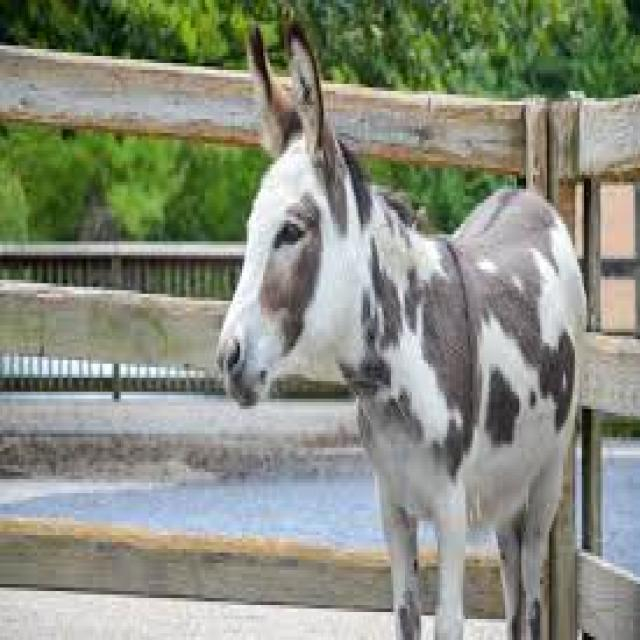Donkey: (210, 12, 600, 626)
